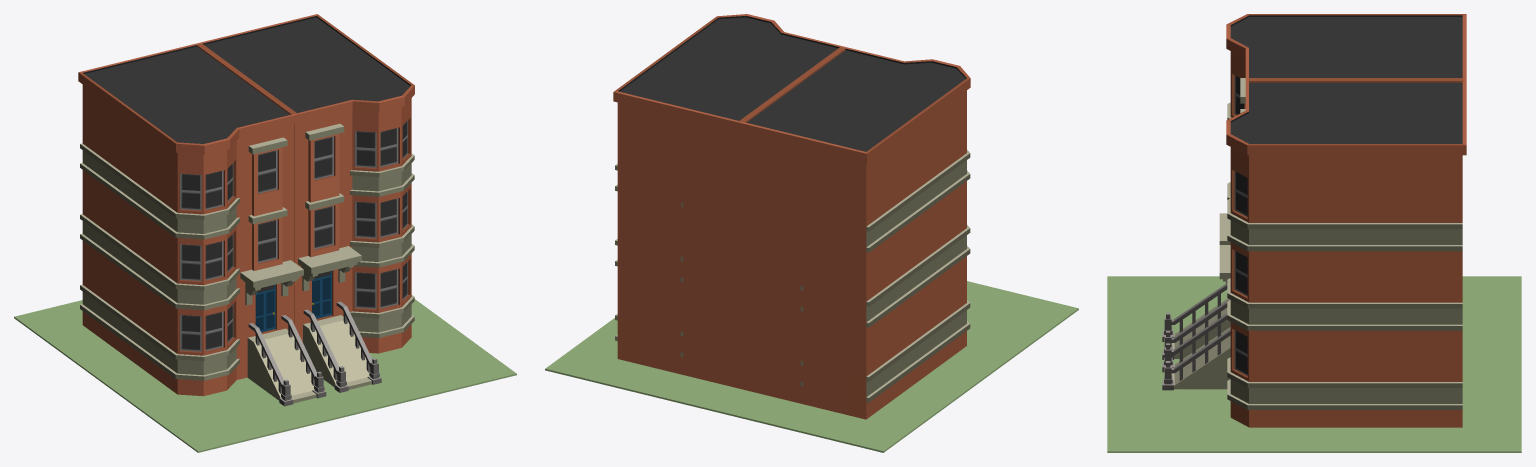
The model's file is duplex.glb.
3 renders of one model, left to right at view 1: azimuth 30°, elevation 25°; view 2: azimuth 150°, elevation 25°; view 3: azimuth 270°, elevation 25°, orthographic. The views are drawn at different scales.
Visible parts, largest first — view 1: TownHouse, Ground; view 2: TownHouse, Ground; view 3: TownHouse, Ground.
Part boxes in pixels (x1,y1,x2,y2): TownHouse: (78, 14, 414, 406); Ground: (14, 299, 516, 452); TownHouse: (613, 14, 970, 419); Ground: (545, 281, 1078, 452); TownHouse: (1162, 14, 1466, 427); Ground: (1107, 276, 1521, 452).
Bounding box in the file's own units: 32 × 24.38 × 32.
2 materials, 1 textured.
